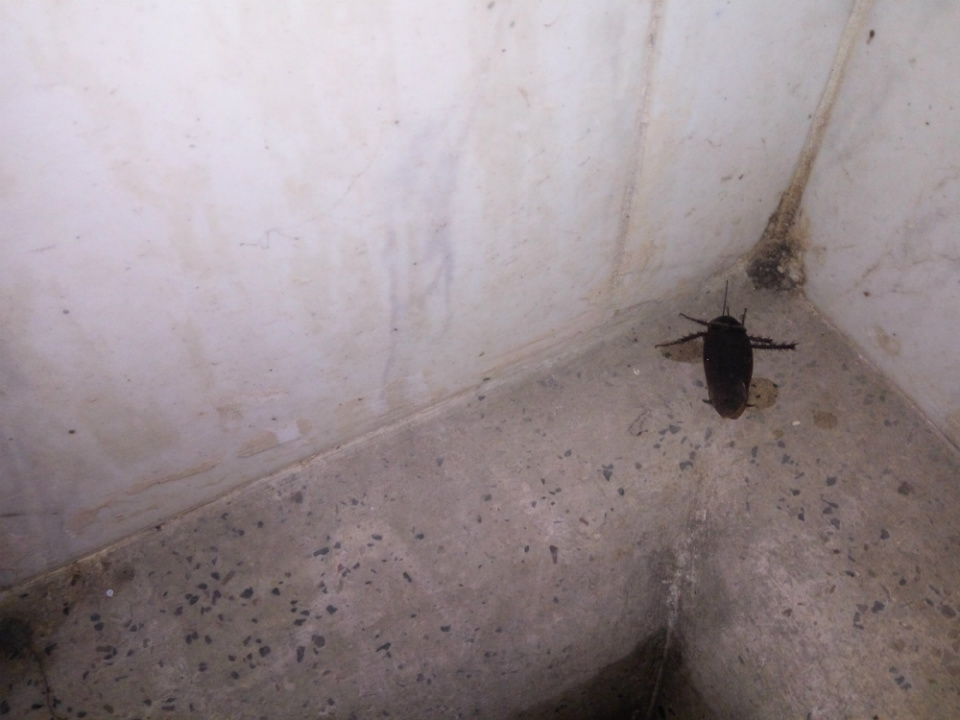cockroach: (630, 269, 810, 428)
